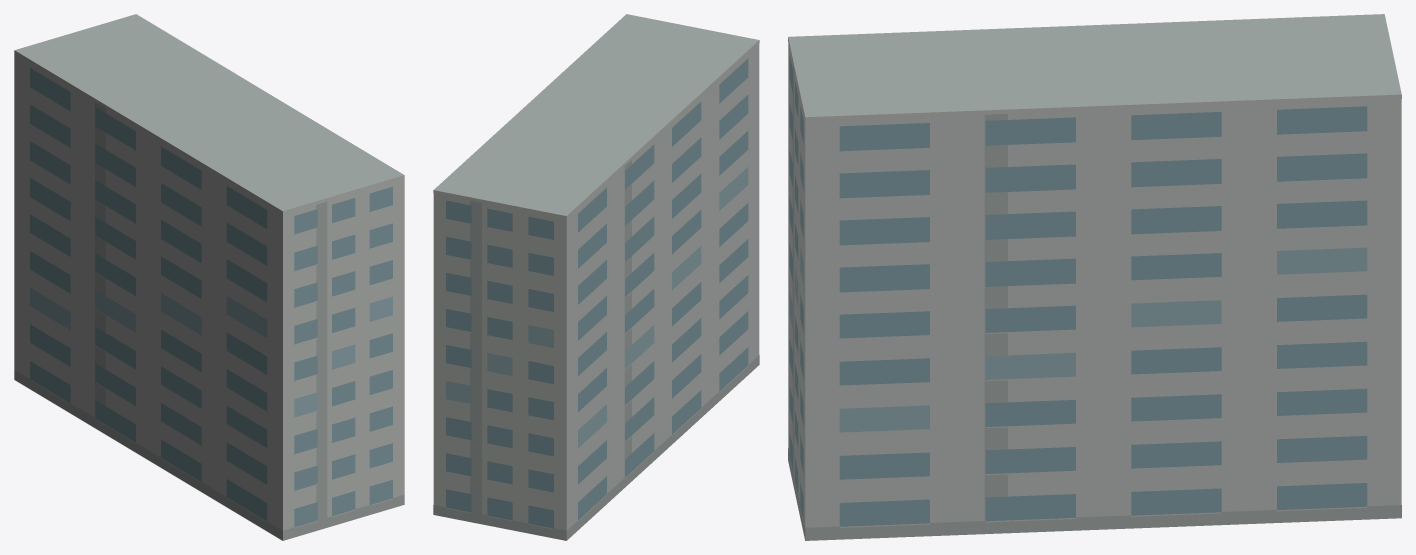
File: residential-21cafcfd-5c7f-43f9-8f81-9d7014dc7a02.glb
The picture shows the model from 3 angles, left to right: view 1: azimuth 30°, elevation 25°; view 2: azimuth 150°, elevation 25°; view 3: azimuth 270°, elevation 25°; orthographic projection. The views are drawn at different scales.
Visible parts, largest first — view 1: residential-21cafcfd-5c7f-43f9-8f81-9d7014dc7a02.tmp; view 2: residential-21cafcfd-5c7f-43f9-8f81-9d7014dc7a02.tmp; view 3: residential-21cafcfd-5c7f-43f9-8f81-9d7014dc7a02.tmp.
Boxes of the visible parts, x1=… form: residential-21cafcfd-5c7f-43f9-8f81-9d7014dc7a02.tmp: x1=14, y1=14, x2=404, y2=540; residential-21cafcfd-5c7f-43f9-8f81-9d7014dc7a02.tmp: x1=433, y1=14, x2=759, y2=540; residential-21cafcfd-5c7f-43f9-8f81-9d7014dc7a02.tmp: x1=788, y1=14, x2=1401, y2=540.
Size of the model in its own units: 12.55 by 24 by 31.52.
